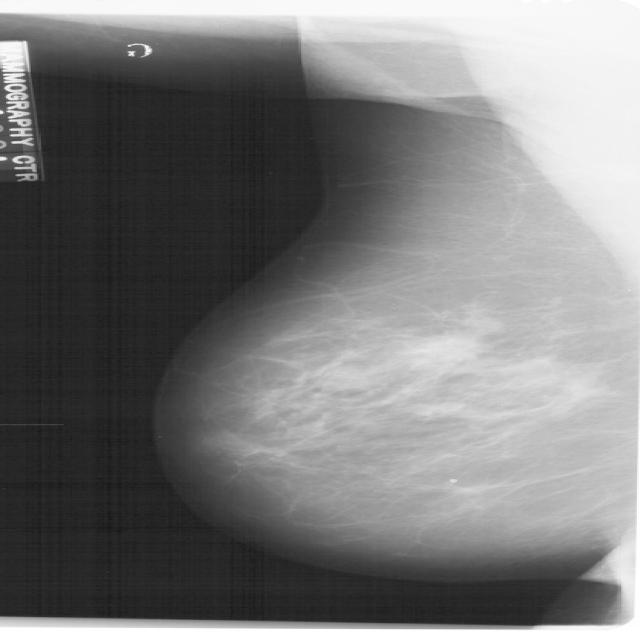tumour: (400, 331, 486, 363)
